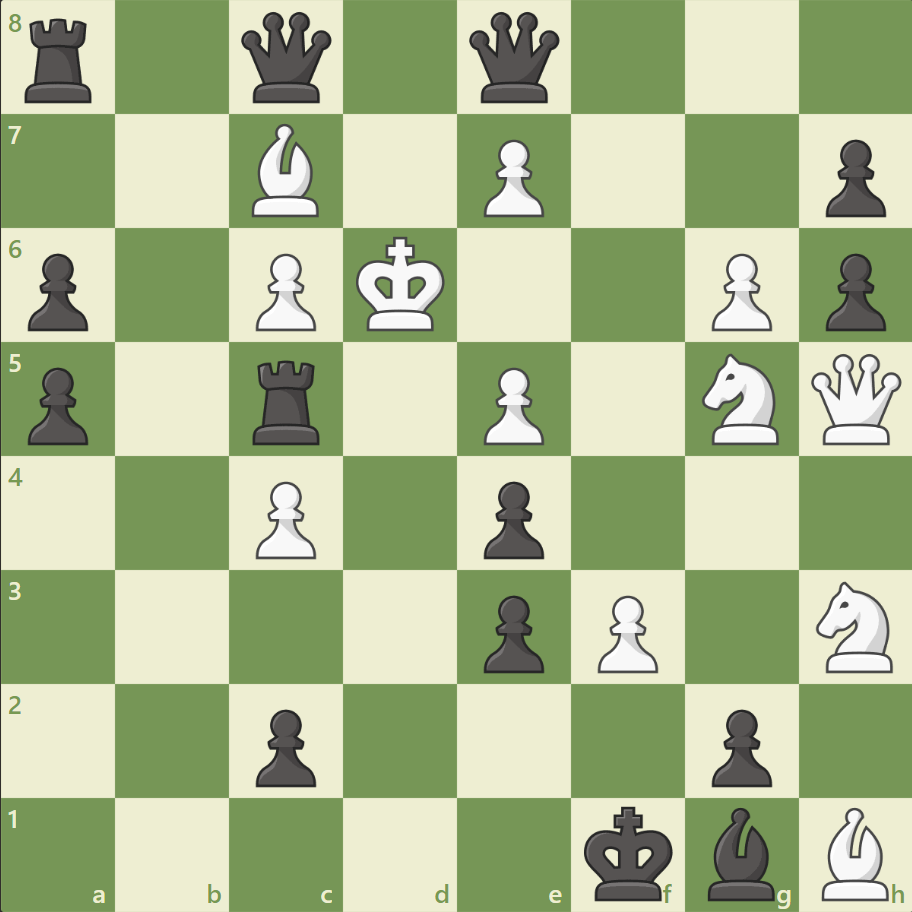B: (812, 801, 896, 904), (244, 120, 328, 222)
K: (351, 231, 451, 339)
N: (692, 348, 789, 450), (806, 575, 903, 677)
P: (474, 132, 549, 223), (247, 246, 322, 337), (701, 246, 776, 337), (474, 359, 549, 450), (247, 473, 322, 564), (588, 586, 662, 677)
Q: (805, 349, 904, 449)
b: (698, 801, 782, 904)
k: (579, 798, 679, 906)
p: (20, 246, 95, 337), (20, 359, 95, 450), (474, 473, 549, 564), (474, 586, 549, 677), (247, 700, 322, 791), (701, 700, 776, 791), (815, 132, 889, 223), (815, 246, 889, 337)
q: (237, 9, 336, 108), (464, 9, 563, 108)
r: (19, 12, 102, 109), (246, 352, 329, 449)
